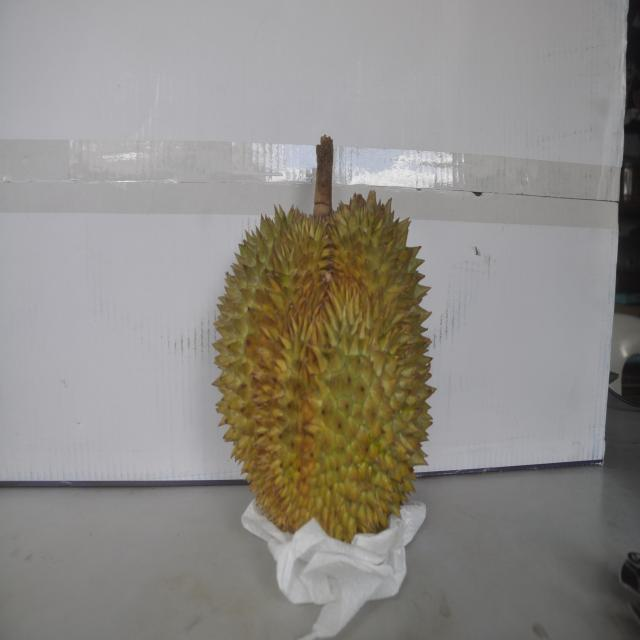mature: (211, 153, 428, 538)
